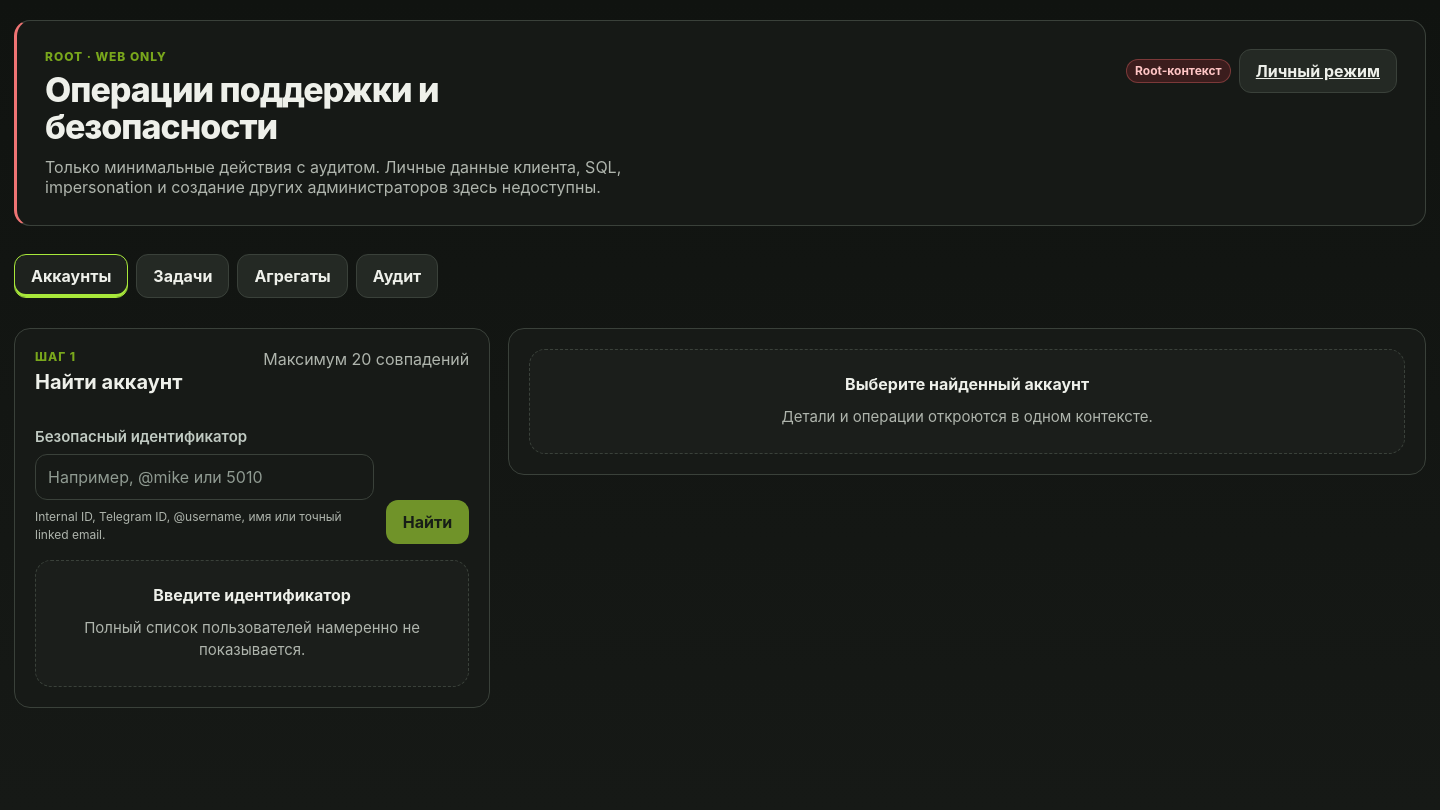
Test case: AdminPage › показывает controlled search error и восстанавливается через retry
Step 1. Type "@long_support_identifier" into the search field labelled "Безопасный идентификатор" → (204, 477), box [35,454,374,500]
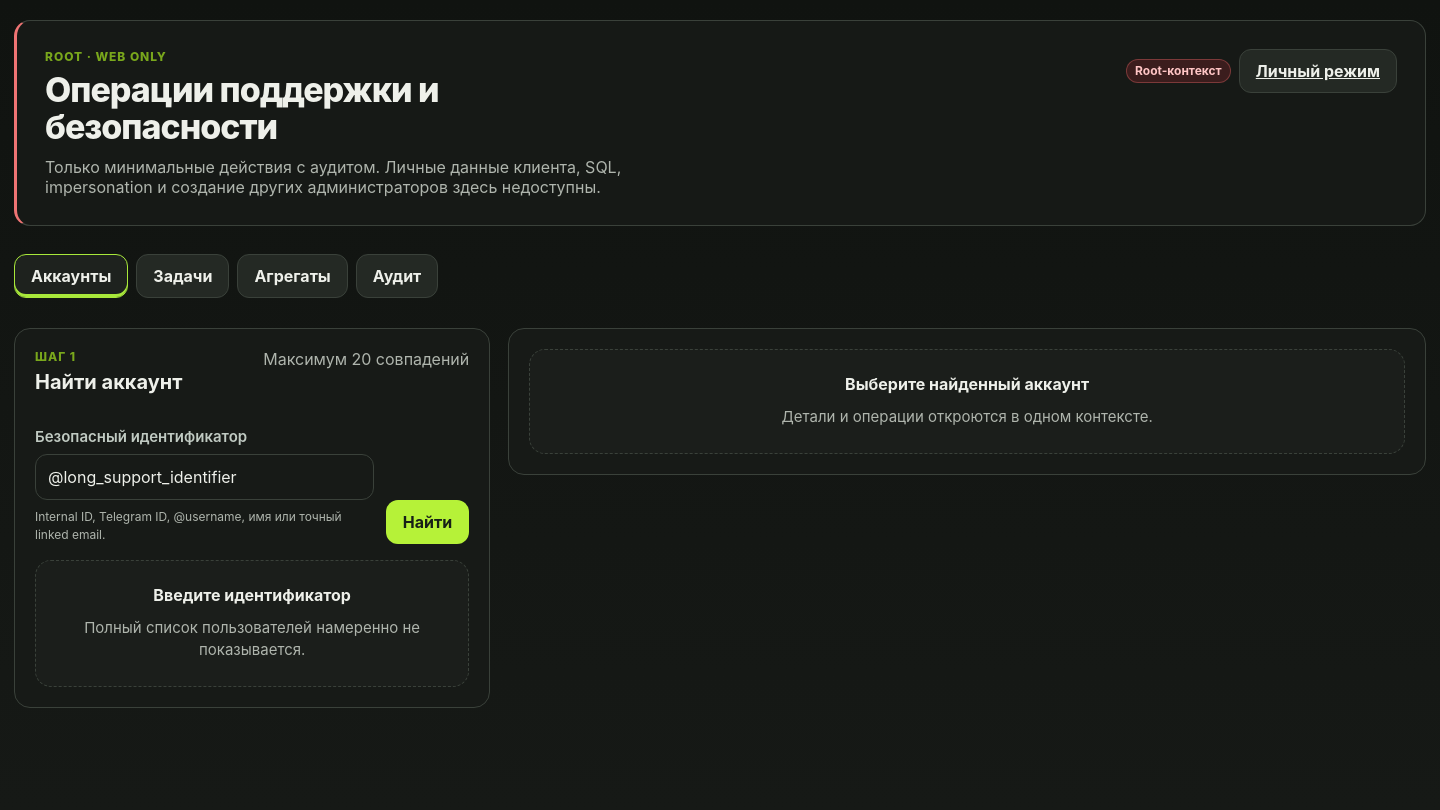
Step 2. Click the button "Найти" → (428, 522), box [386,500,469,544]
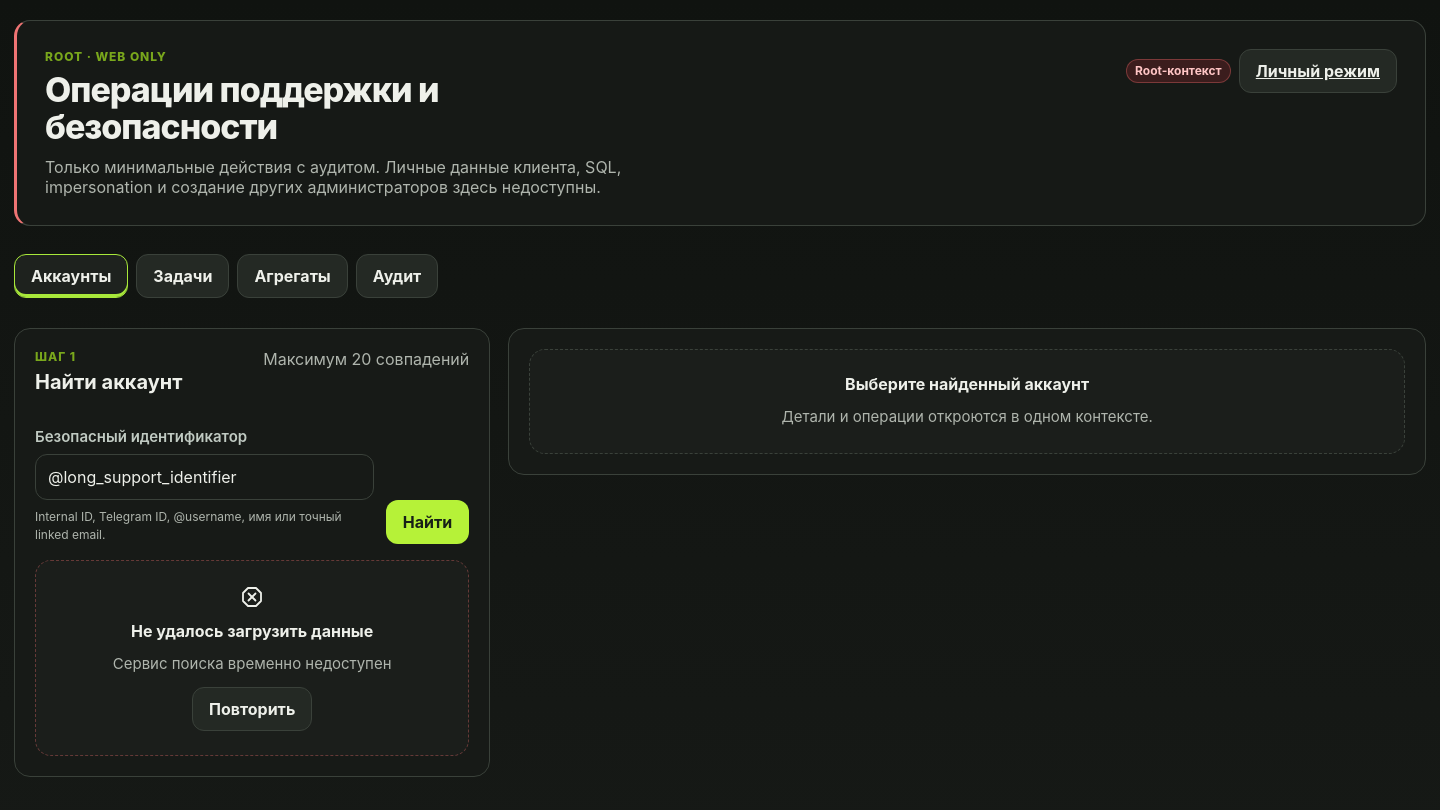
Expected: the text "Сервис поиска временно недоступен" is shown, [113,653,392,675]
Step 3. Click the button "Повторить" → (252, 709), box [192,687,312,731]
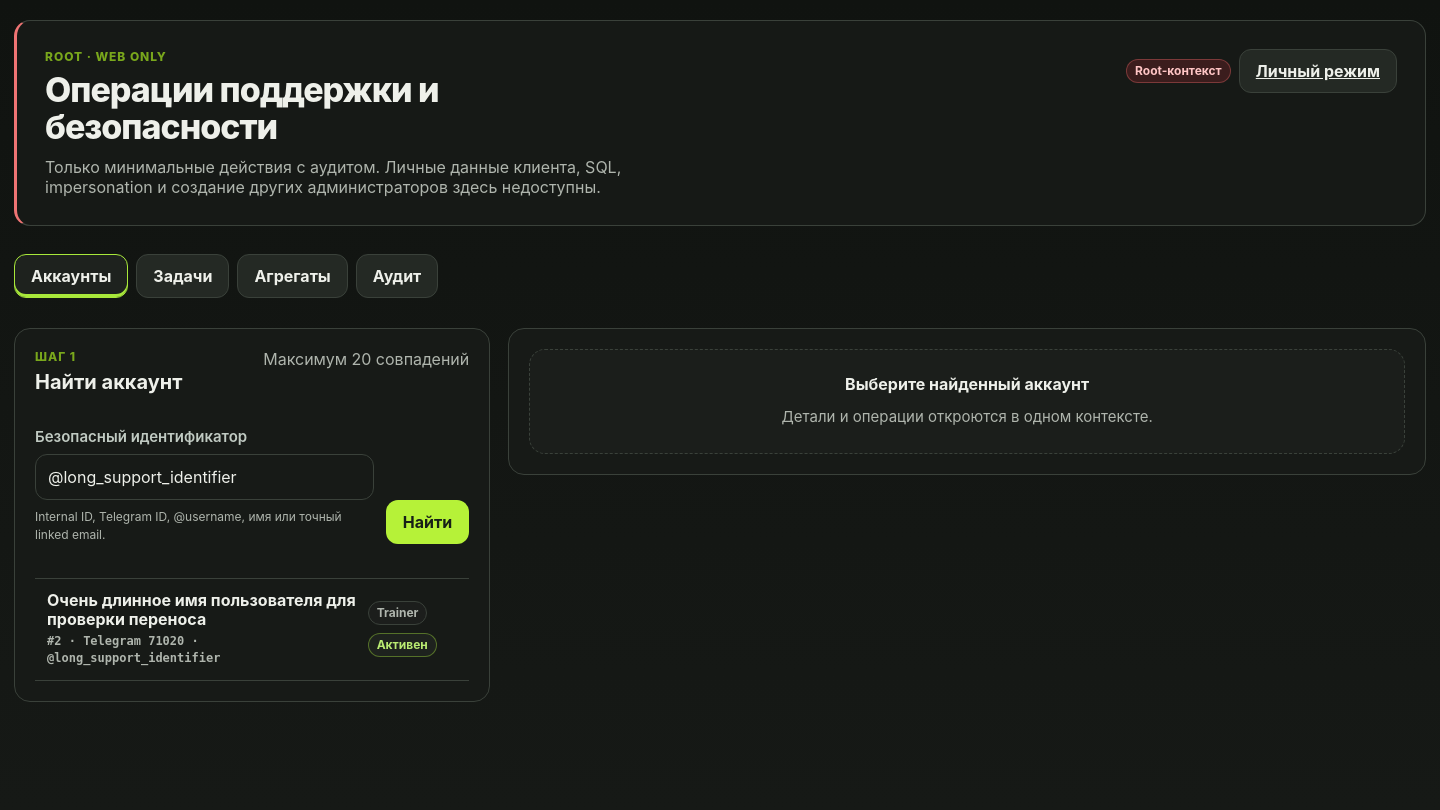
Expected: the button "Очень длинное имя пользователя для проверки переноса" is shown, [35,579,469,680]
